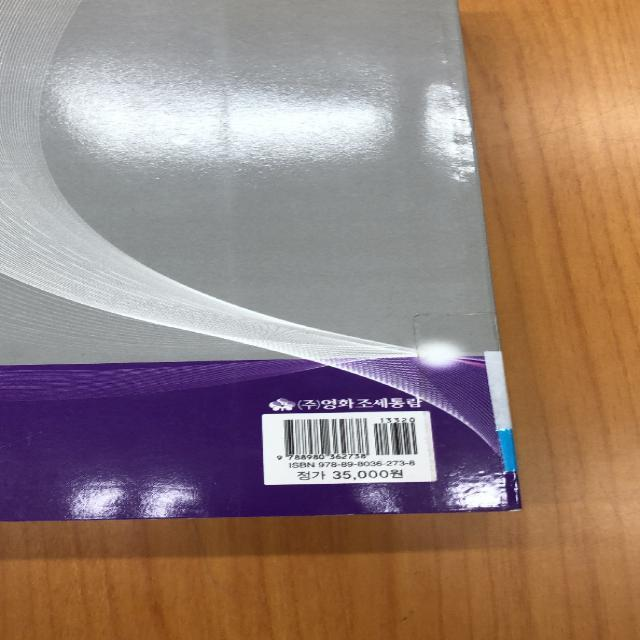Wornout: (308, 502, 367, 520), (461, 500, 525, 515)
